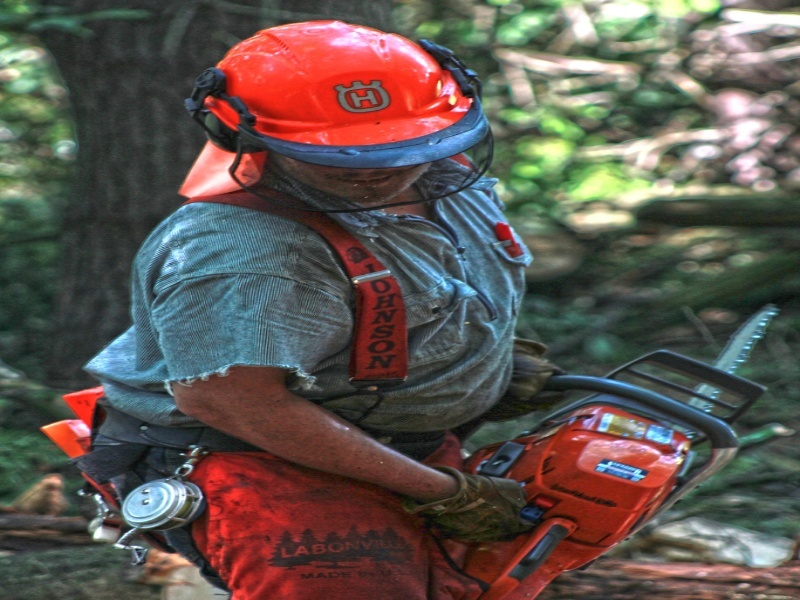Baret: (204, 19, 489, 161)
